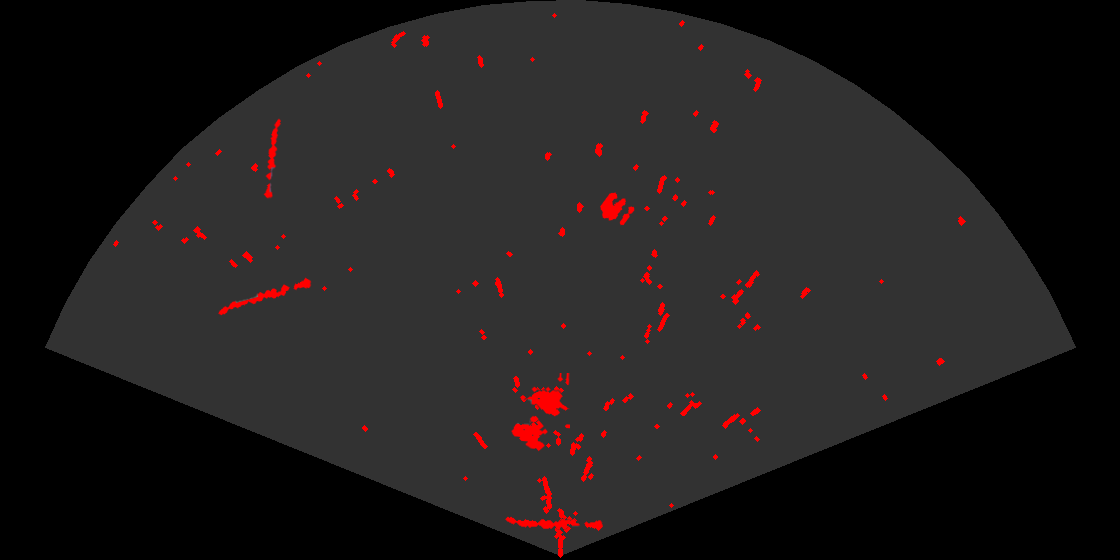ball: (599, 191, 636, 227)
cage: (510, 373, 570, 453)
chain: (217, 276, 313, 317), (504, 515, 603, 533), (262, 117, 282, 199)
